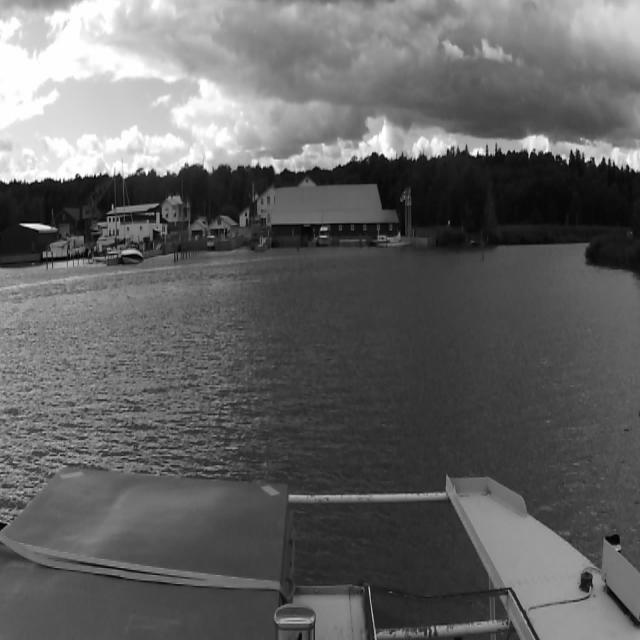buoy: (482, 240, 484, 260)
ship: (371, 140, 413, 252), (93, 166, 119, 265), (120, 240, 144, 267), (318, 227, 332, 246)
